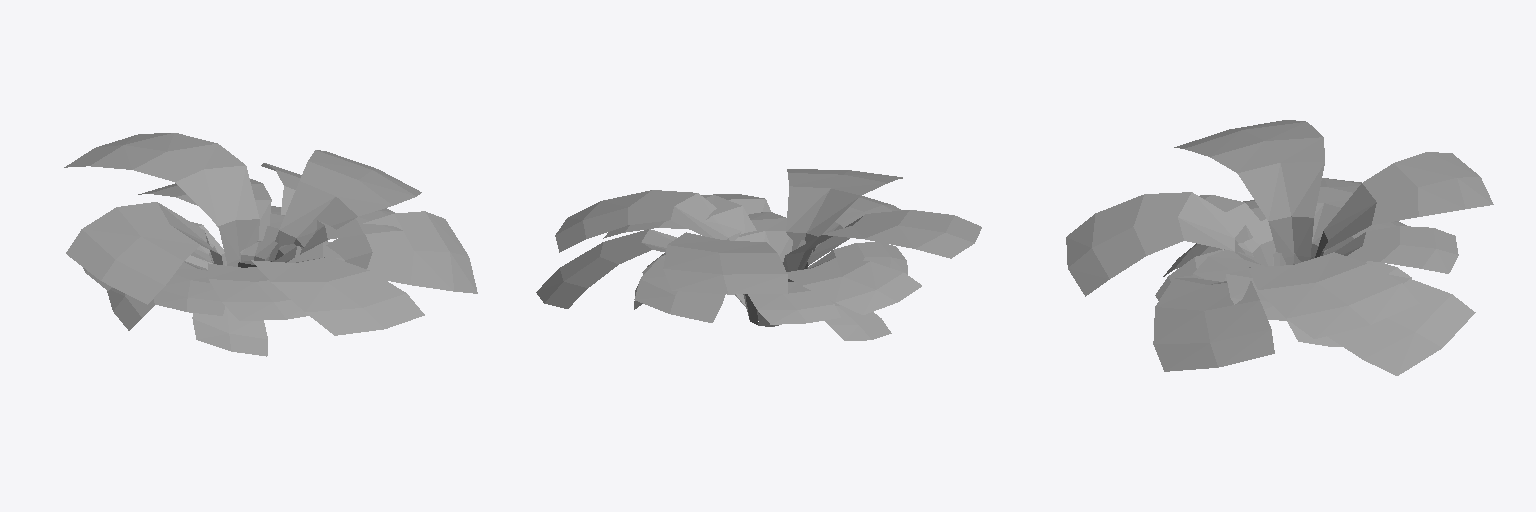
File: fern.obj
3 views of the same model, side by side, from view 1: azimuth 30°, elevation 25°; view 2: azimuth 150°, elevation 25°; view 3: azimuth 270°, elevation 25° (orthographic).
Size of the model in its own units: 4.13 by 1.3 by 4.09.